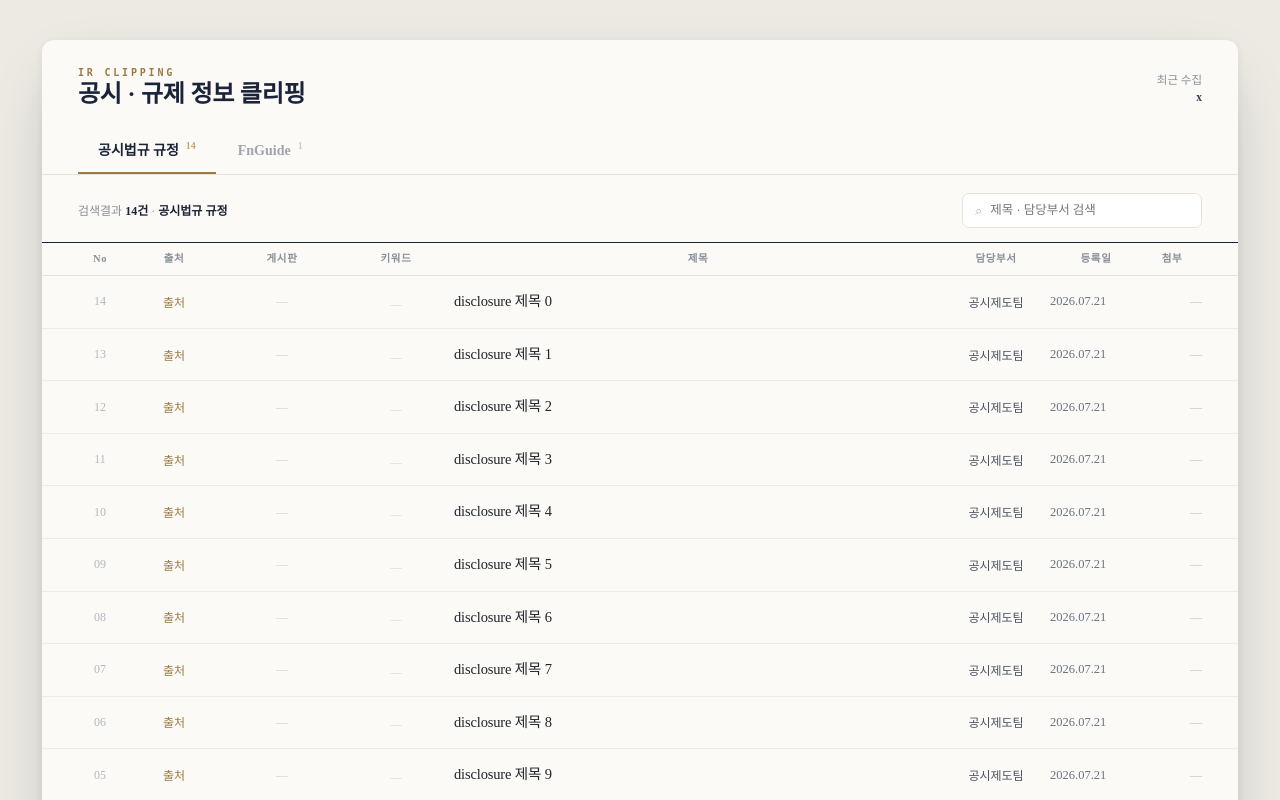
Test: Board › filters rows by search query
Type "제목 3" into the field with placeholder "제목 · 담당부서 검색".
click(1090, 210); type("제목 3")  # box [990,194,1189,227]
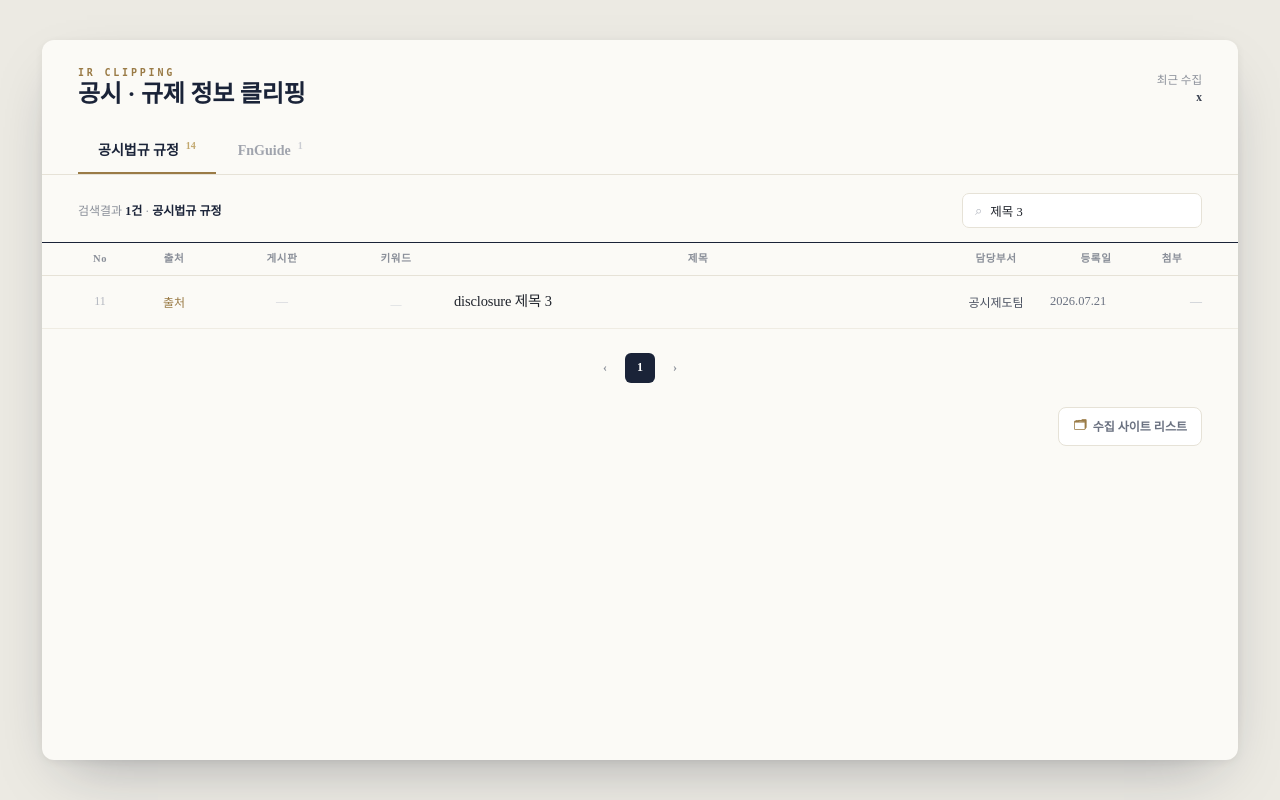
Expected: the text "disclosure 제목 3" is shown, [454,293,552,309]
Now the text "disclosure 제목 0" is gone
